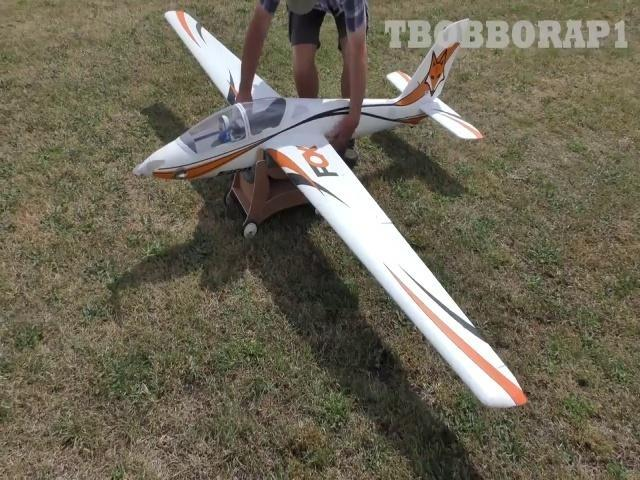Airplane: (132, 11, 527, 407)
